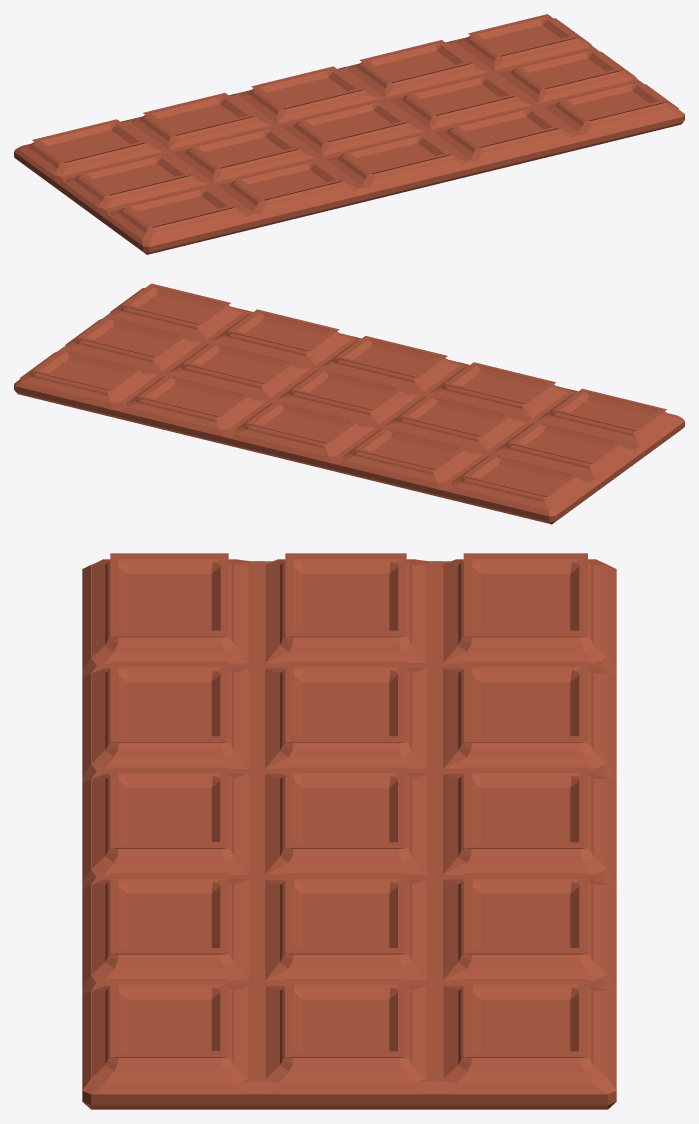
The model's file is choko.fbx.
3 views of the same model, one above another, from view 1: azimuth 30°, elevation 25°; view 2: azimuth 150°, elevation 25°; view 3: azimuth 270°, elevation 25° (orthographic). The views are drawn at different scales.
Visible parts, largest first — view 1: Cube; view 2: Cube; view 3: Cube.
Part boxes in pixels (x1=…): Cube: x1=14, y1=14, x2=684, y2=254; Cube: x1=14, y1=283, x2=684, y2=524; Cube: x1=82, y1=553, x2=616, y2=1109.
Size of the model in its own units: 1467 by 56.55 by 626.
